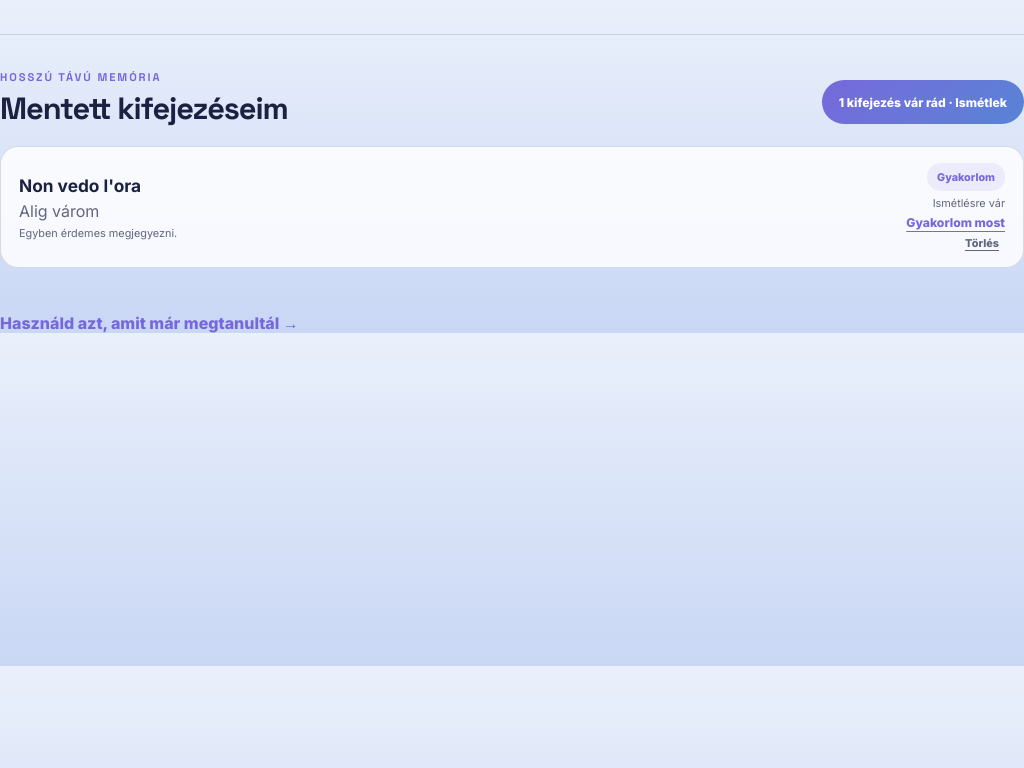
Test: PhrasebookSection › deletes a phrase only after confirmation and removes it locally
Step 1. Click the button "Törlés" → click(982, 243), box [959,235,1005,251]
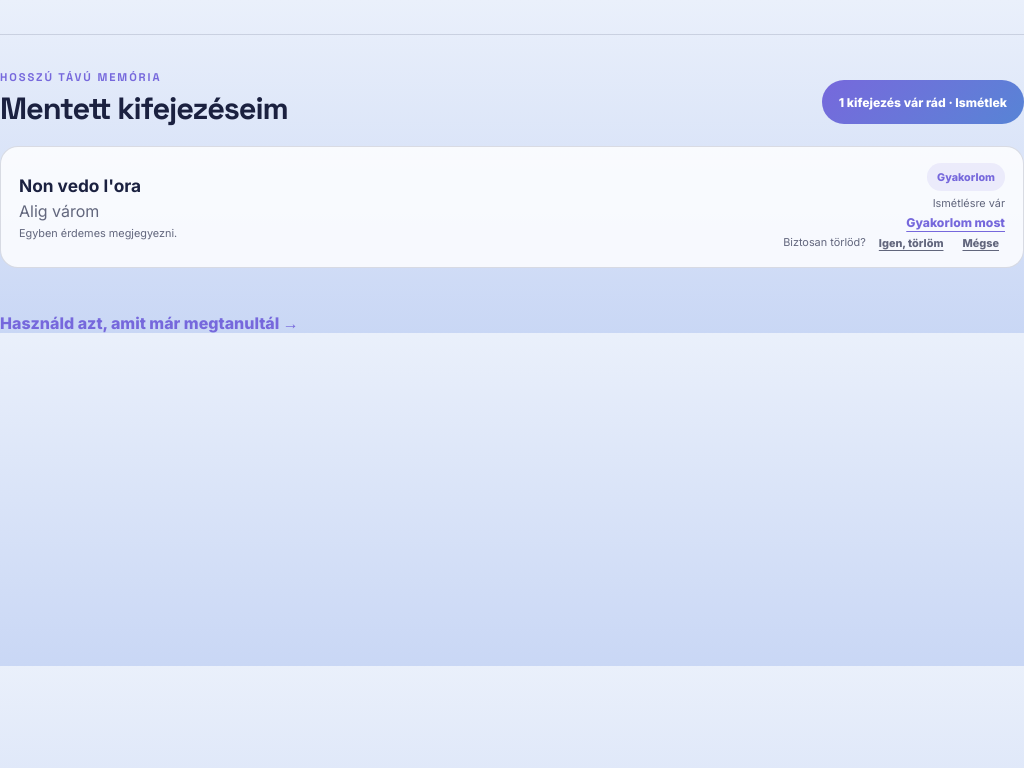
Step 2. Click the button "Igen, törlöm" → click(911, 243), box [873,235,950,251]
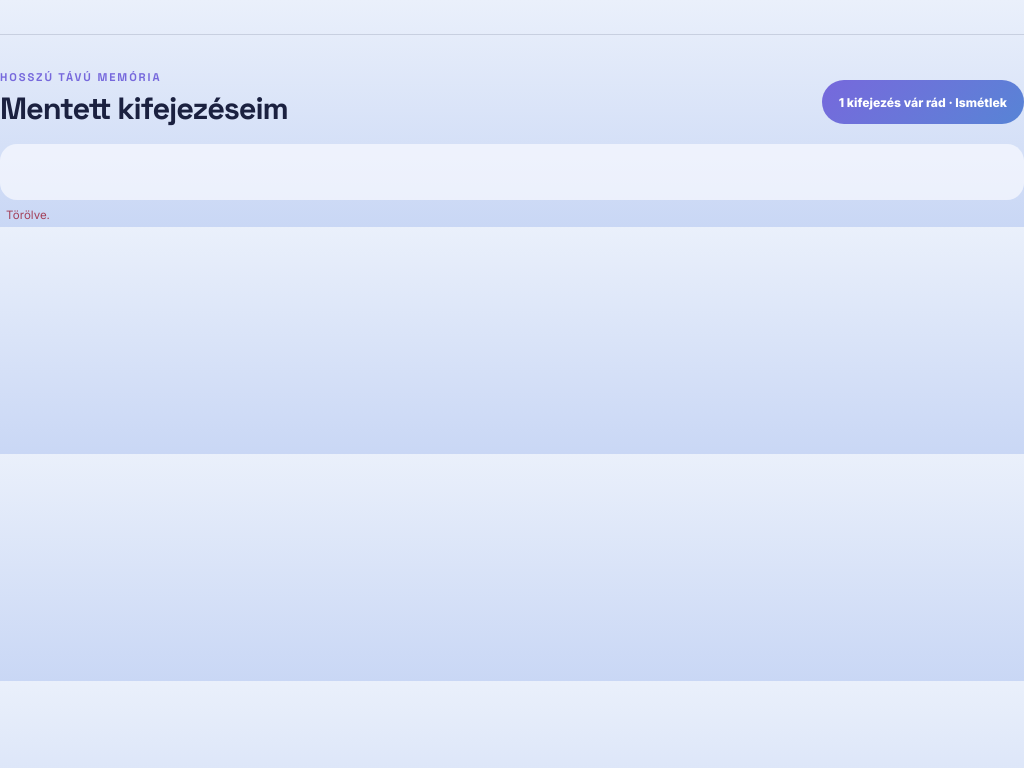
expect the text "Non vedo l'ora" is gone: met
expect the message reads "Törölve.": met, box [6,208,50,222]
